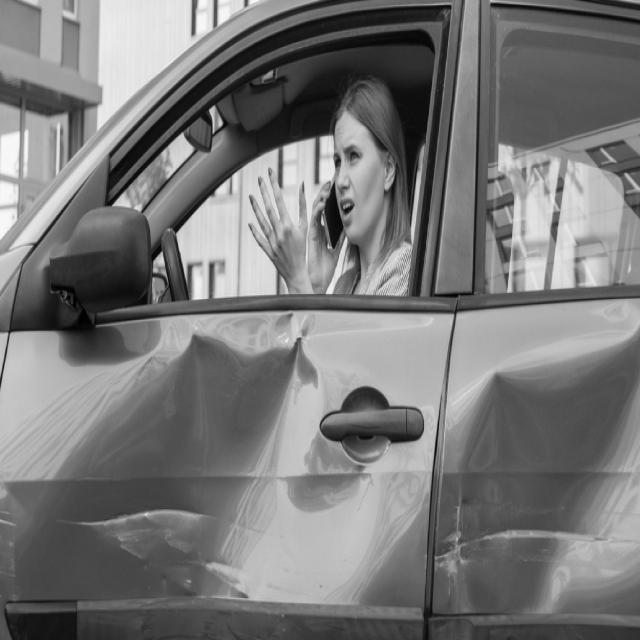dent: (0, 296, 640, 640)
scratch: (432, 478, 638, 613), (49, 504, 251, 599), (0, 506, 18, 608)
